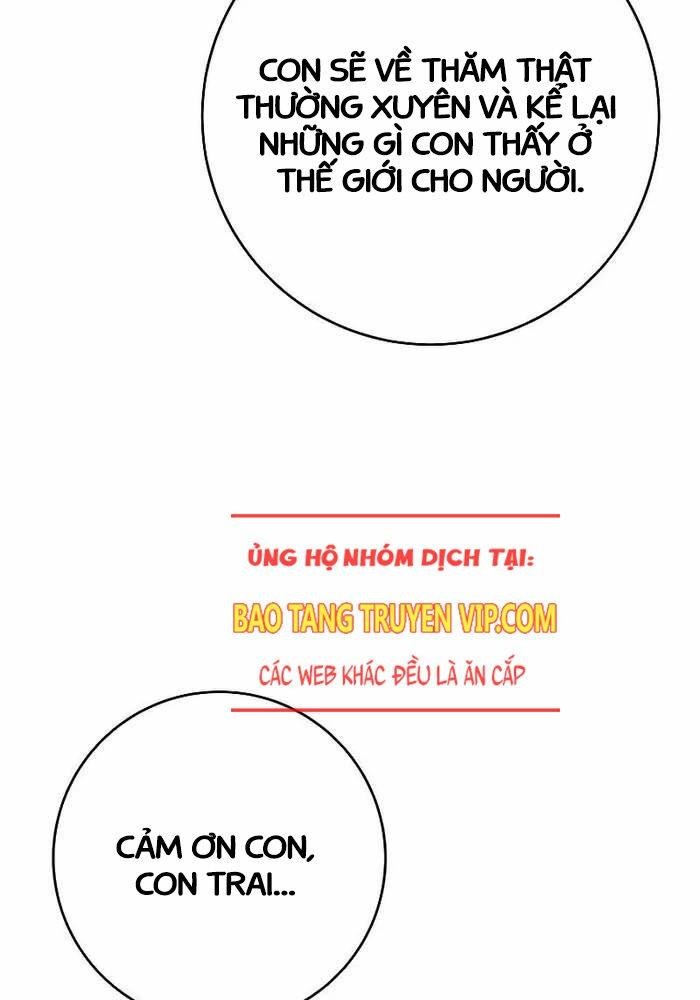quangcao: (231, 513, 563, 711)
